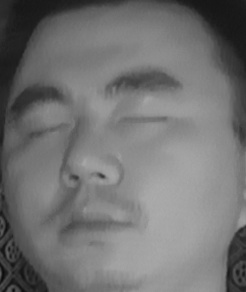blink: (115, 103, 170, 137), (22, 113, 70, 145)
mouth: (48, 193, 140, 250)
